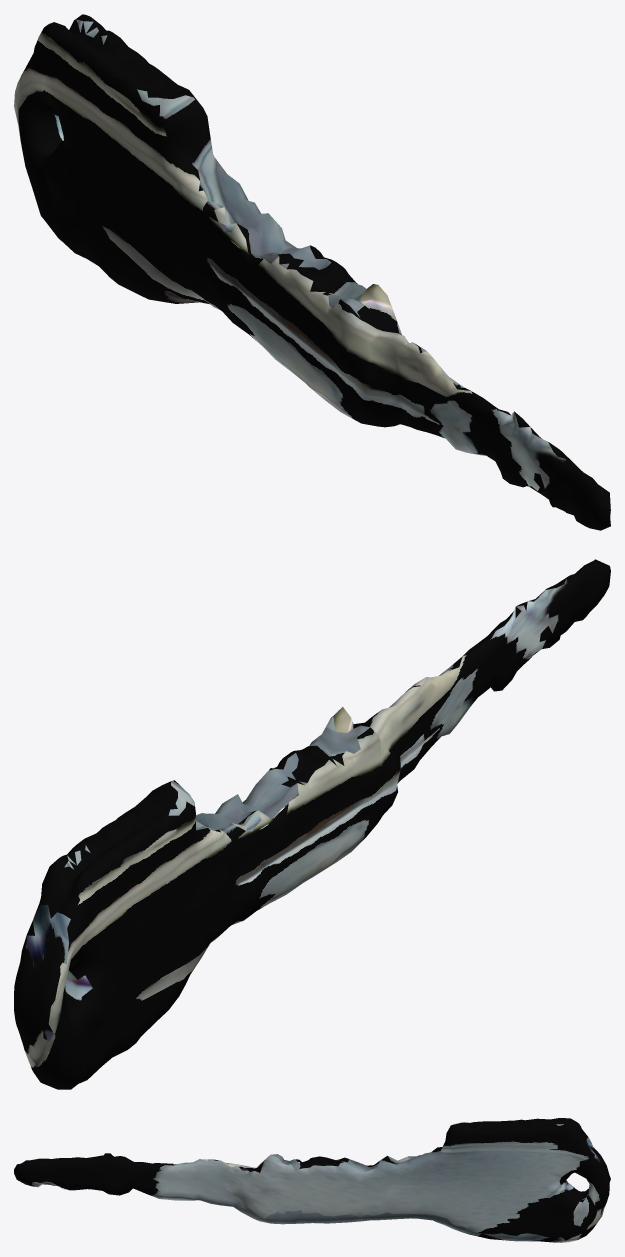
The model's file is scan_align.obj.
3 views of the same model, one above another, from view 1: azimuth 30°, elevation 25°; view 2: azimuth 150°, elevation 25°; view 3: azimuth 270°, elevation 25° (orthographic). The views are drawn at different scales.
Bounding box in the file's own units: 0.00667 × 0.0254 × 0.1164.
